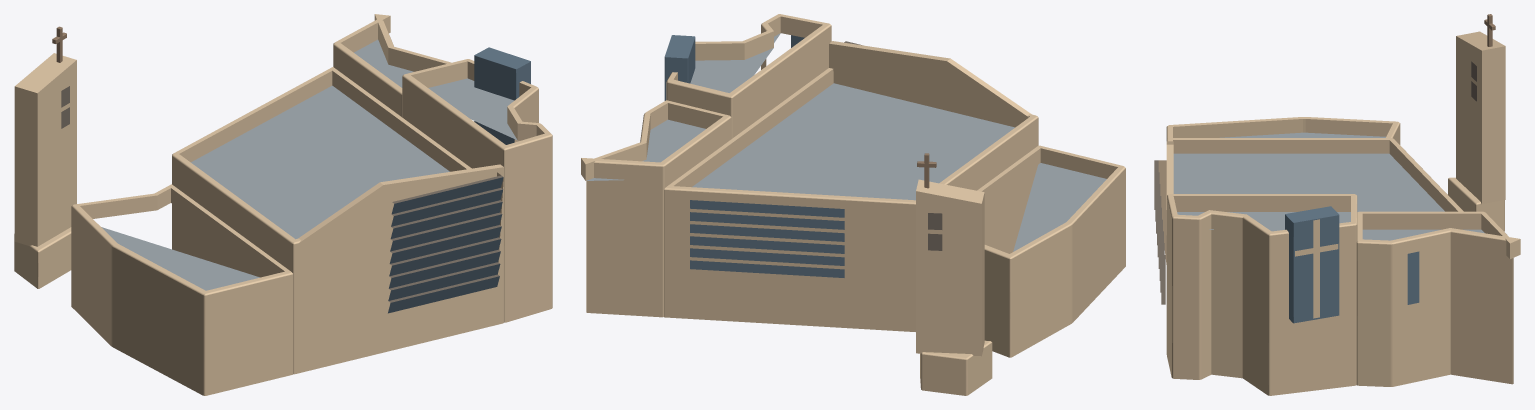
The model's file is la-cathedral.glb.
3 renders of one model, left to right at view 1: azimuth 30°, elevation 25°; view 2: azimuth 150°, elevation 25°; view 3: azimuth 270°, elevation 25°, orthographic. The views are drawn at different scales.
Visible parts, largest first — view 1: Cathedral of Our Lady of the Angels; view 2: Cathedral of Our Lady of the Angels; view 3: Cathedral of Our Lady of the Angels.
Part boxes in pixels (<box>): Cathedral of Our Lady of the Angels: <box>14,14,552,395</box>; Cathedral of Our Lady of the Angels: <box>581,14,1125,395</box>; Cathedral of Our Lady of the Angels: <box>1154,14,1520,395</box>.
Size of the model in its own units: 103 by 55.2 by 84.25.
